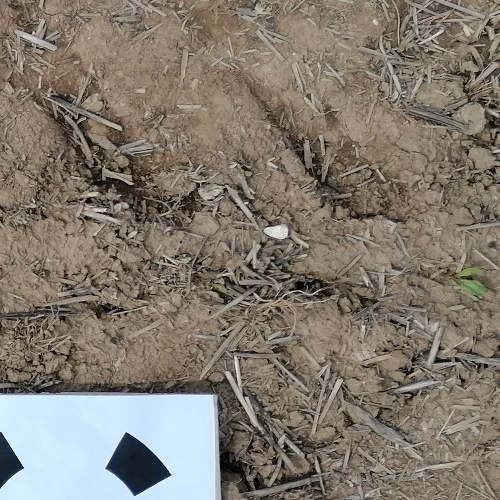beet: (450, 265, 490, 299)
